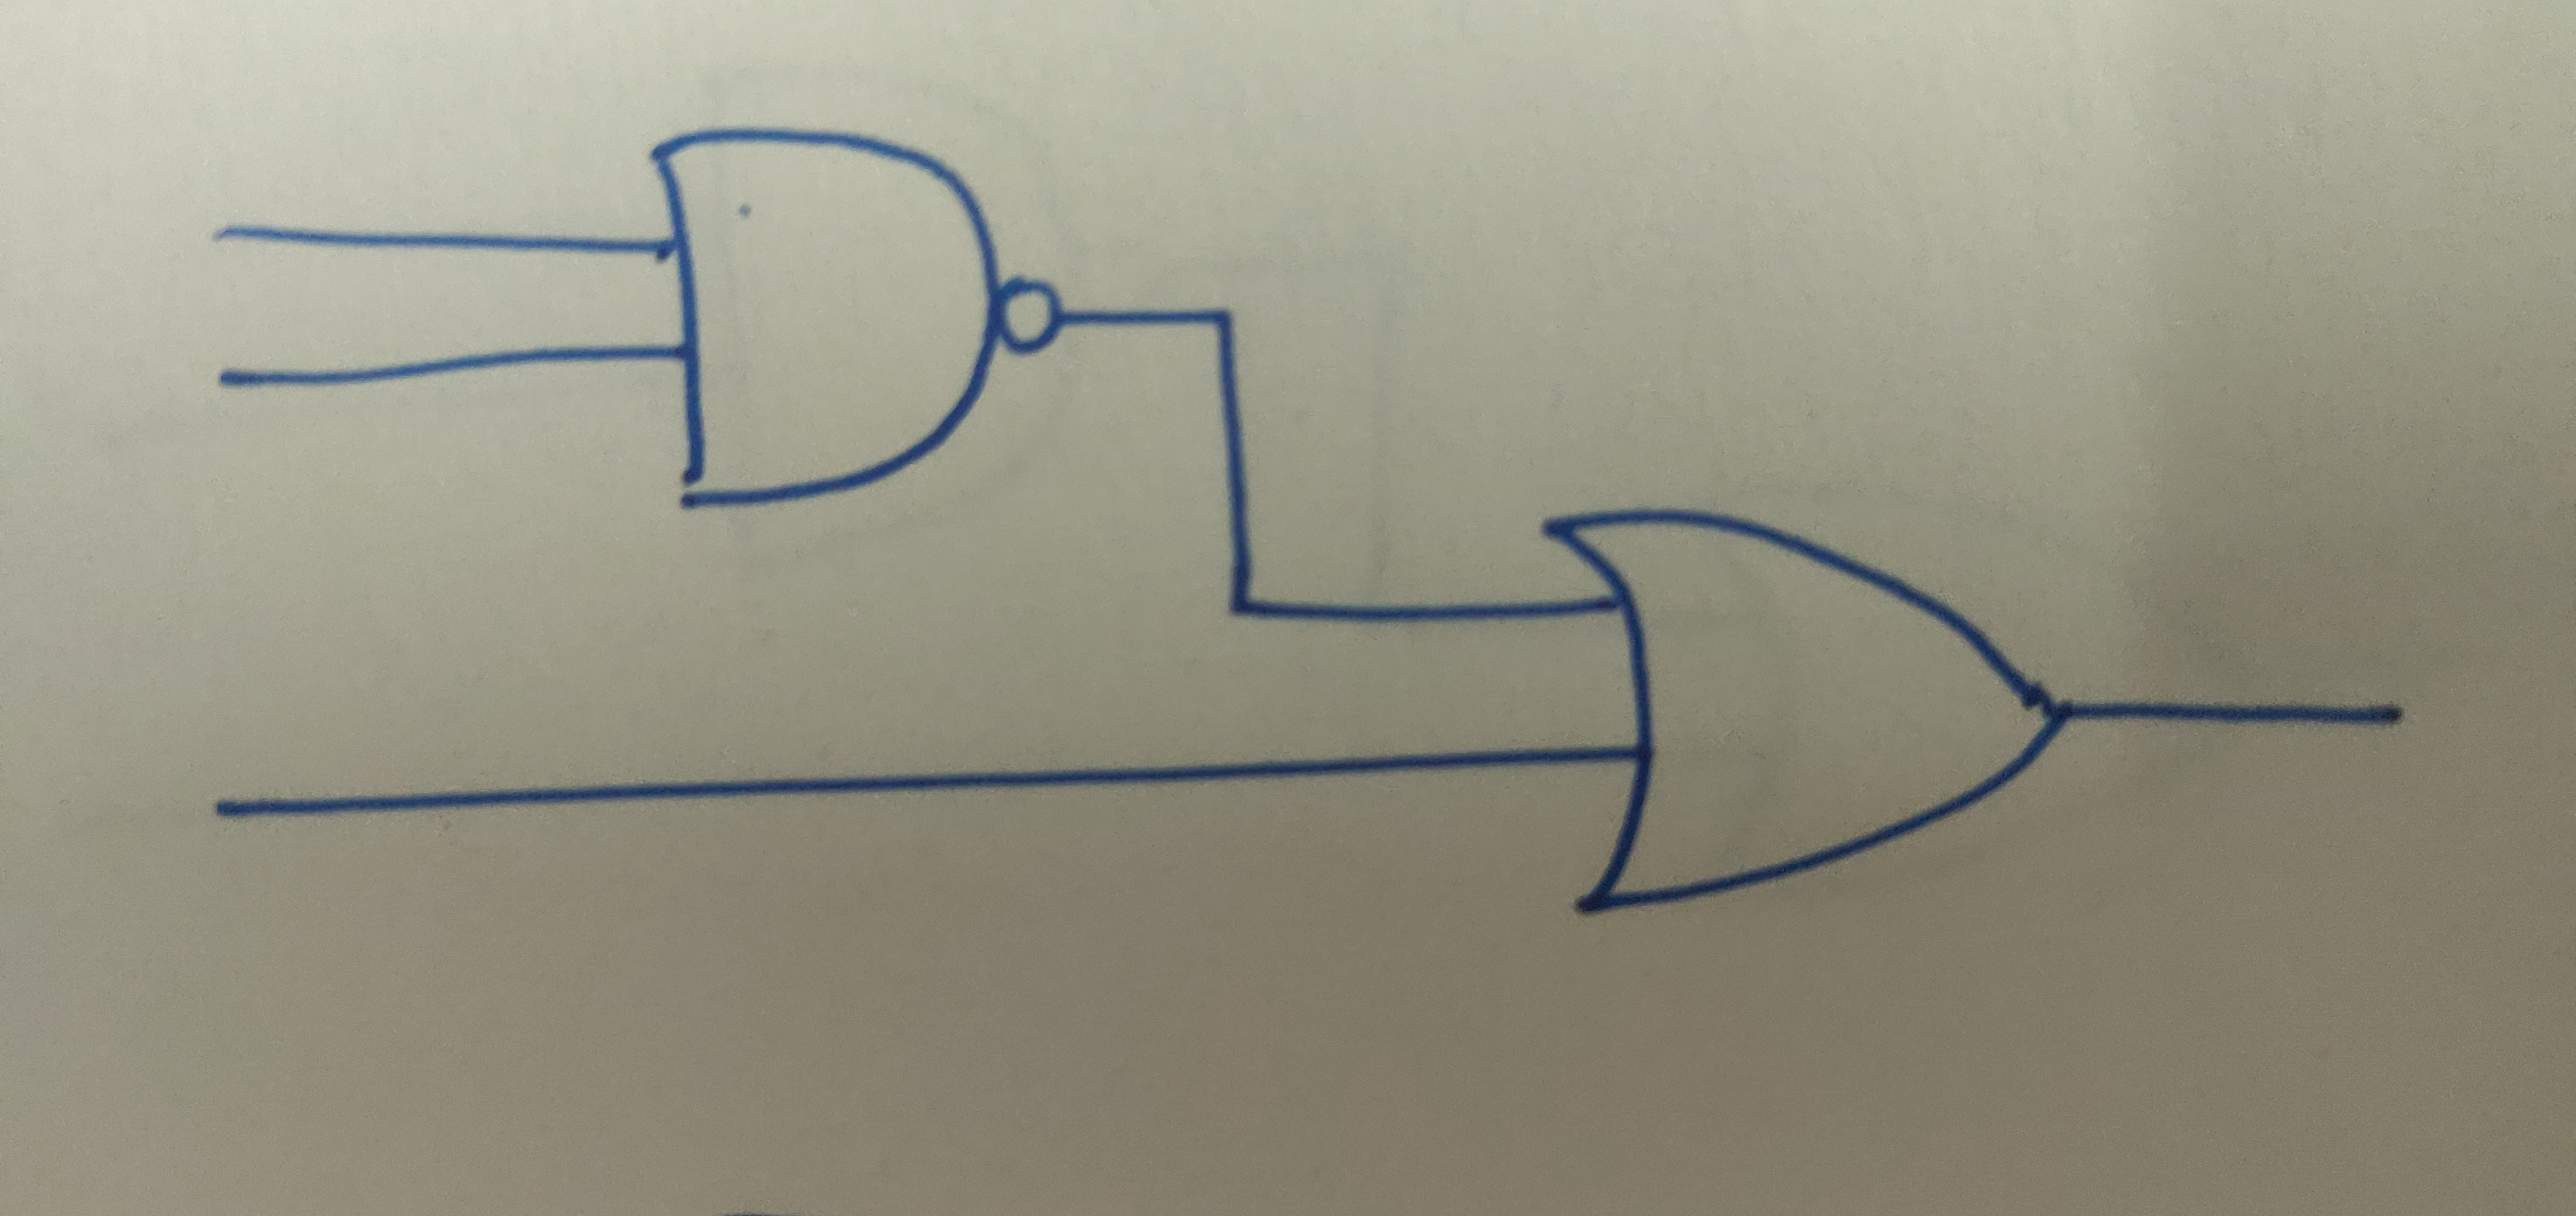and: (646, 128, 999, 516)
not: (992, 273, 1071, 362)
or: (1541, 503, 2083, 927)
